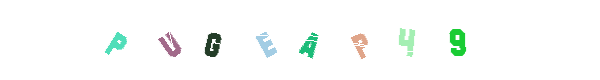4: (291, 0, 371, 80)
9: (418, 0, 498, 80)
A: (277, 0, 357, 80)
E: (260, 0, 340, 80)
G: (172, 0, 252, 80)
P: (124, 0, 204, 80), (291, 0, 371, 80)
U: (135, 0, 215, 80)
